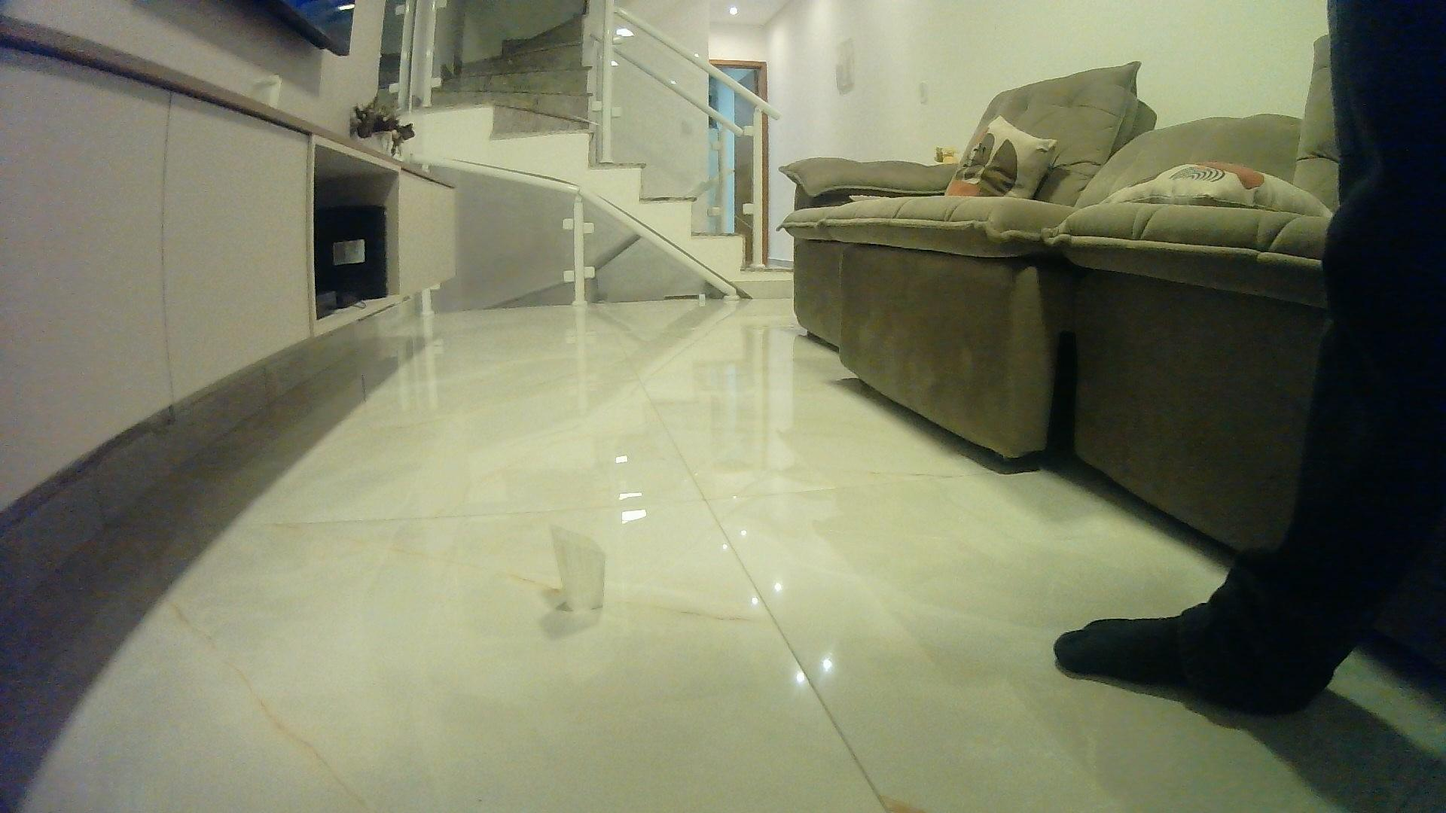erva_daninha: (547, 521, 612, 616)
